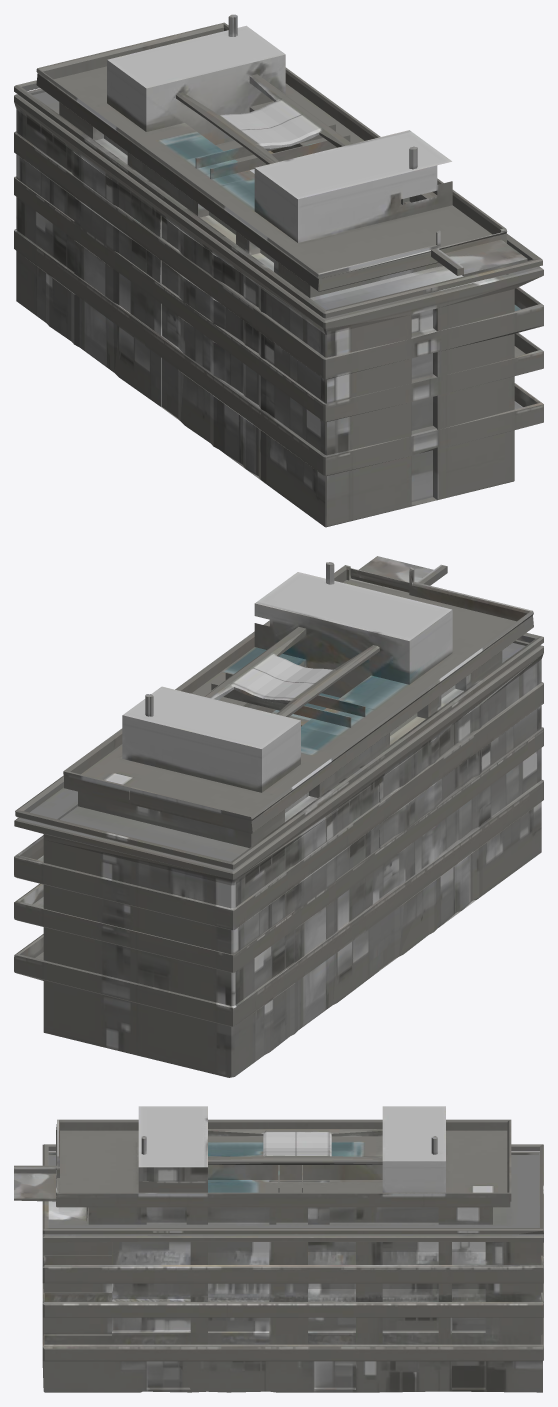
File: piramide.glb
3 renders of one model, top to bottom at view 1: azimuth 30°, elevation 25°; view 2: azimuth 150°, elevation 25°; view 3: azimuth 270°, elevation 25°, orthographic. The views are drawn at different scales.
Visible parts, largest first — view 1: tripo_node_361c446c-27c8-4371-aa5f-11b96b1e1924; view 2: tripo_node_361c446c-27c8-4371-aa5f-11b96b1e1924; view 3: tripo_node_361c446c-27c8-4371-aa5f-11b96b1e1924.
Boxes of the visible parts, x1,y1,x2,y2 form: tripo_node_361c446c-27c8-4371-aa5f-11b96b1e1924: (14, 14, 543, 527); tripo_node_361c446c-27c8-4371-aa5f-11b96b1e1924: (14, 556, 543, 1077); tripo_node_361c446c-27c8-4371-aa5f-11b96b1e1924: (14, 1106, 543, 1392).
Bounding box in the file's own units: 10.78 × 13.89 × 27.84.
1 material, 1 textured.
